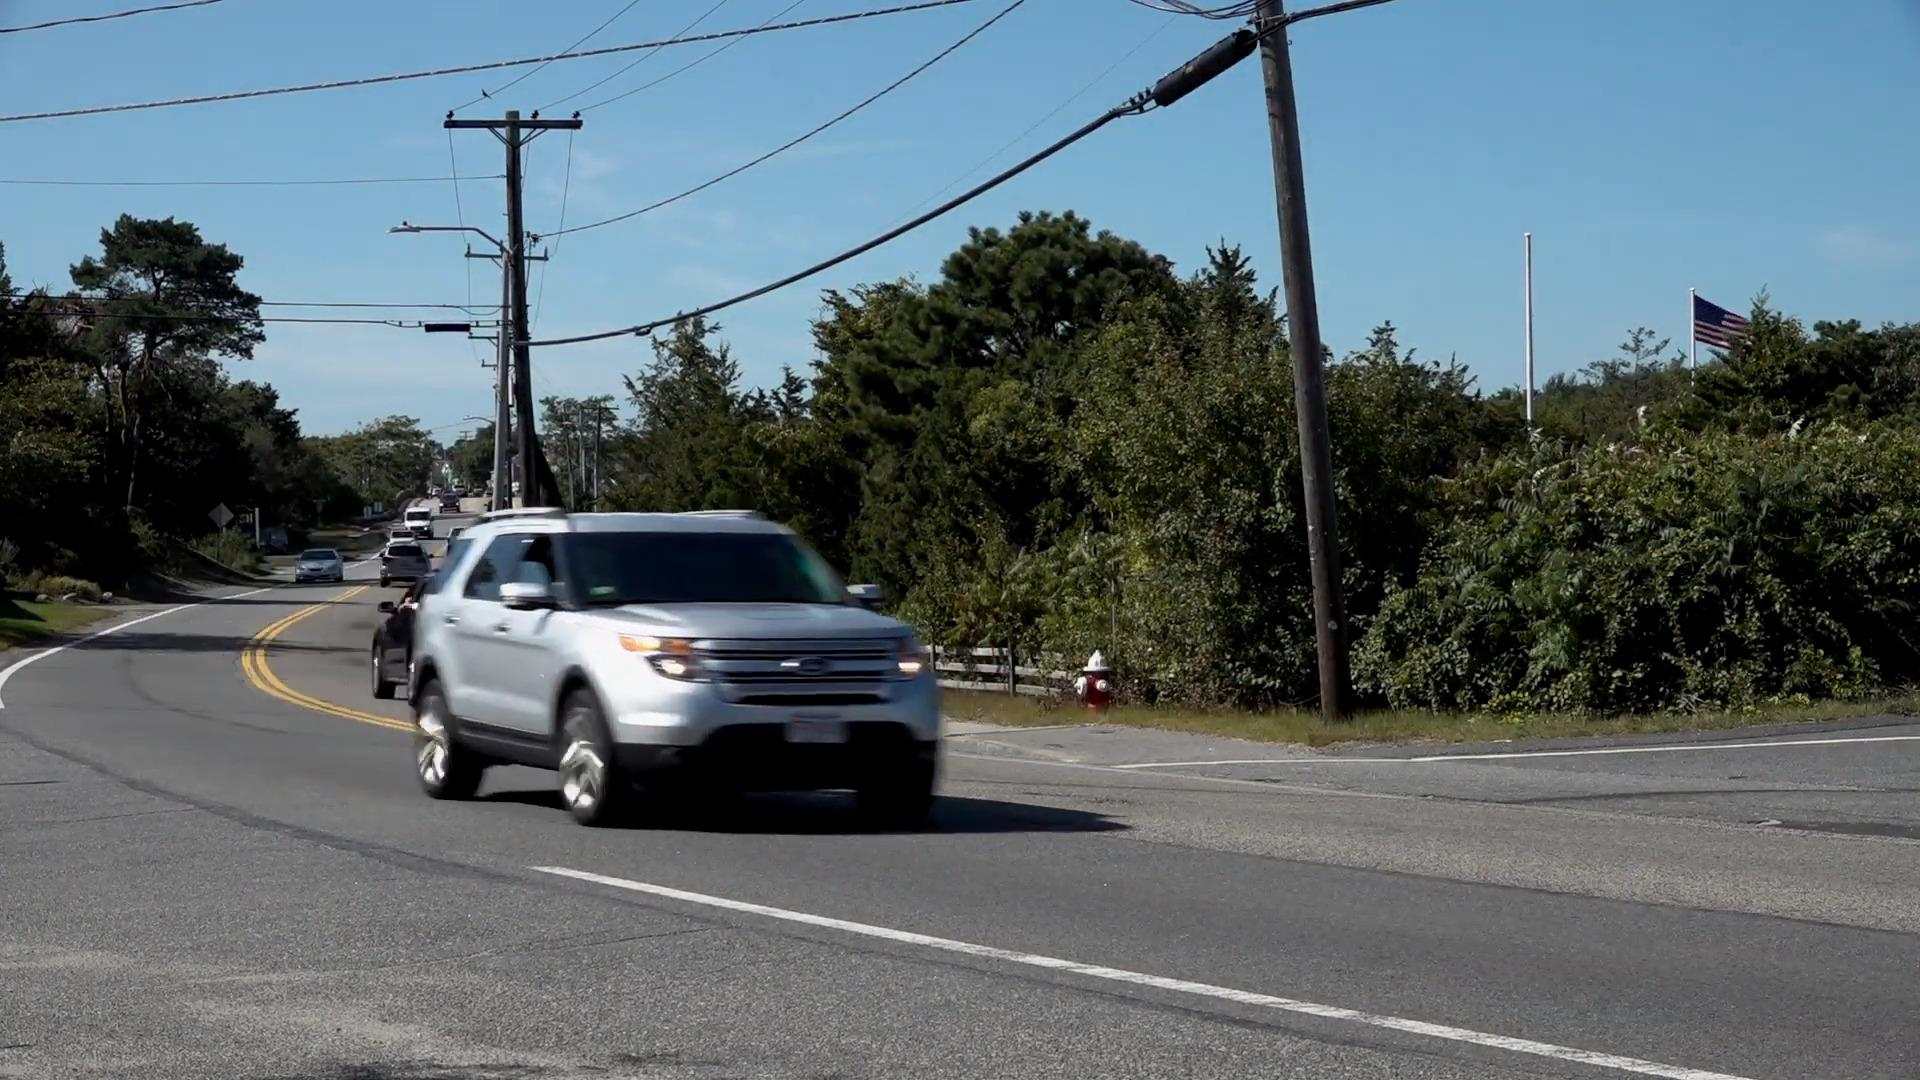suv: (414, 509, 942, 827)
